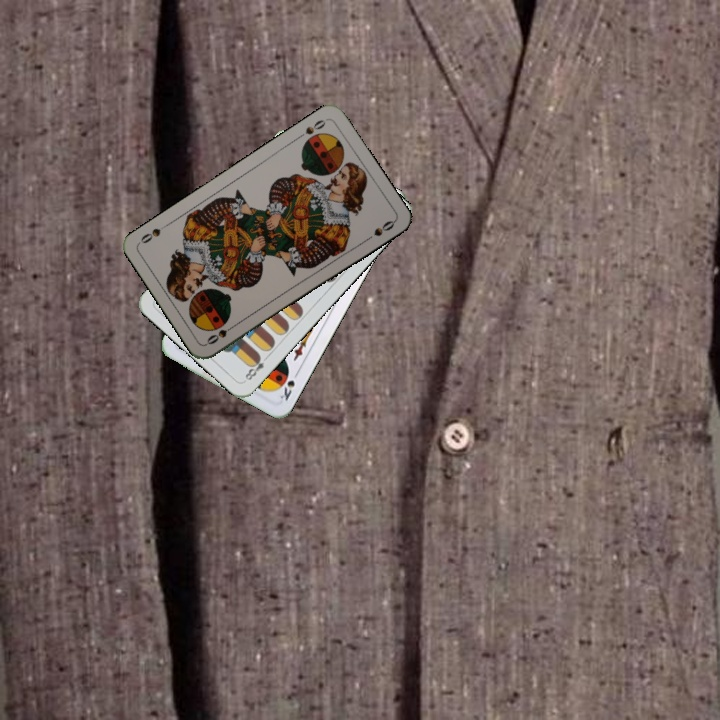E8: (241, 351, 272, 383)
SK: (276, 366, 302, 403)
SO: (202, 320, 239, 347), (293, 115, 329, 142)
